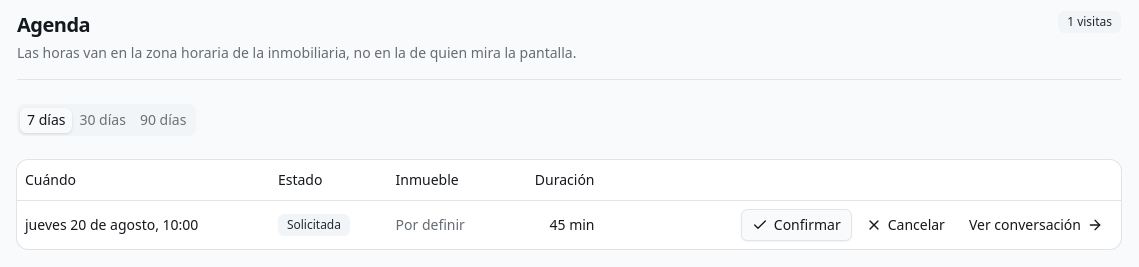
Scenario: Agenda de visitas › cancelar deja la visita cancelada
The image size is (1139, 267).
Click the button "Cancelar": x=905, y=224 [856, 208, 955, 240]
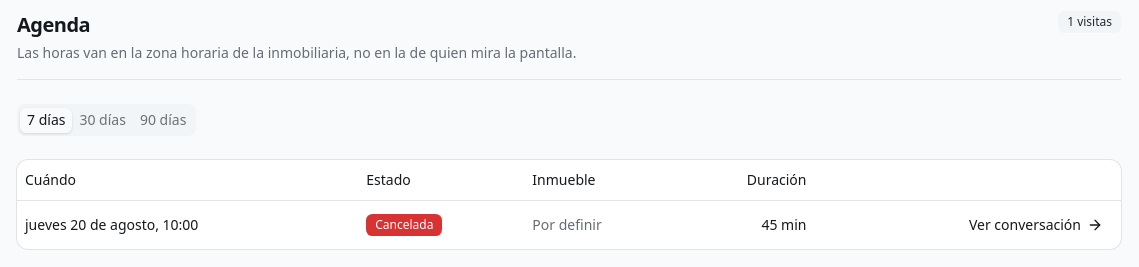
Check: the text "Cancelada" is shown, box [366, 214, 442, 236]
